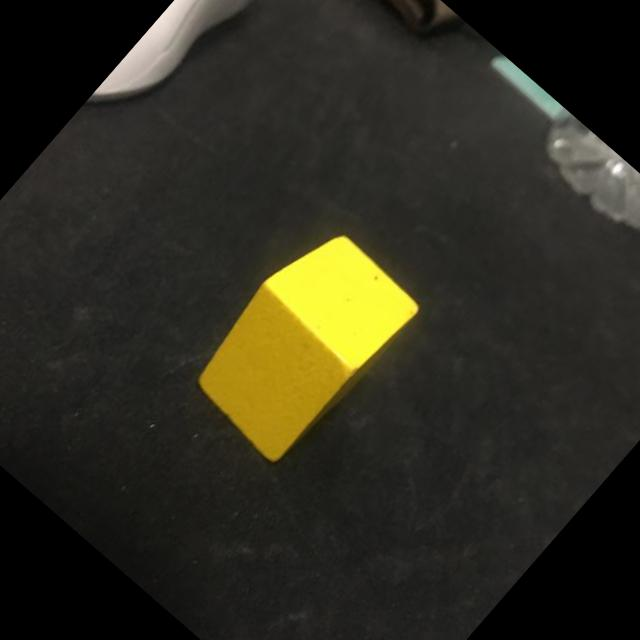yellow: (178, 215, 424, 469)
